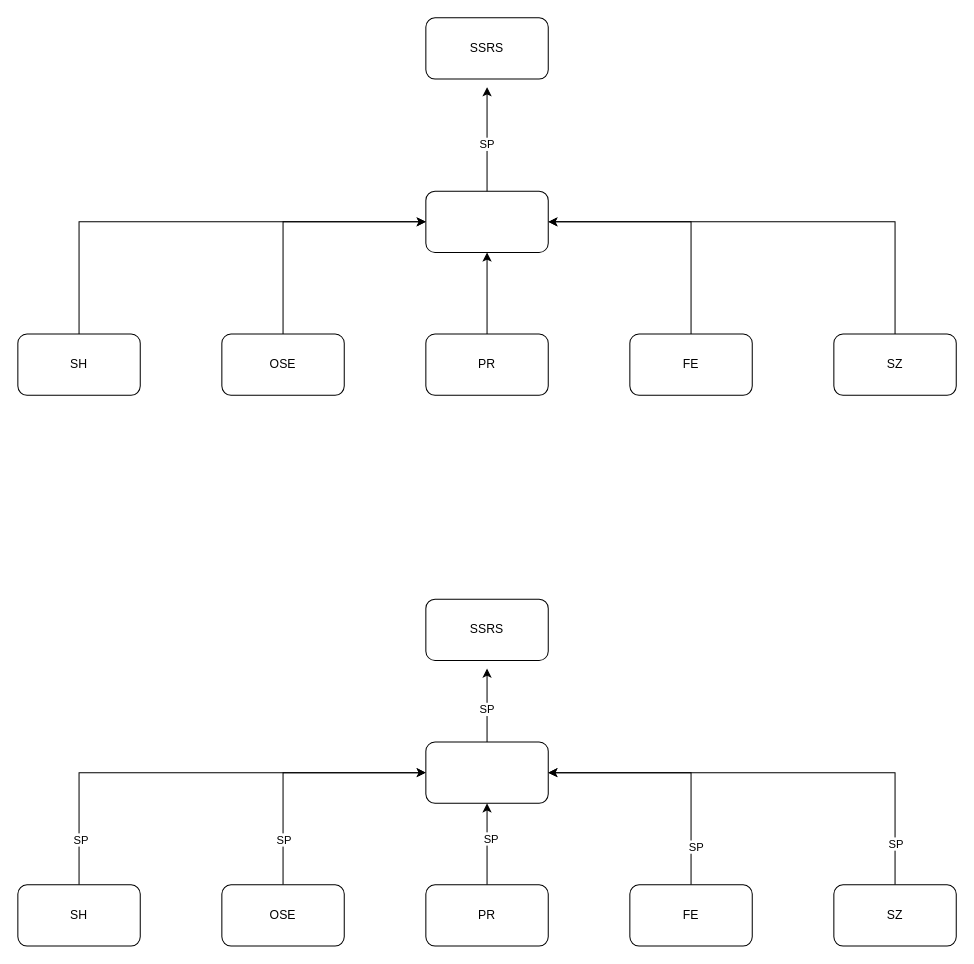
Some shapes in this 974 by 964 pixel diagram are drawn without their labels. The centre of each missing label's shape, as x and y in pixels:
TW Data2: pixel 486 221
TW Data2 Every night Consolidate data to X Table & Y Table: pixel 486 772
